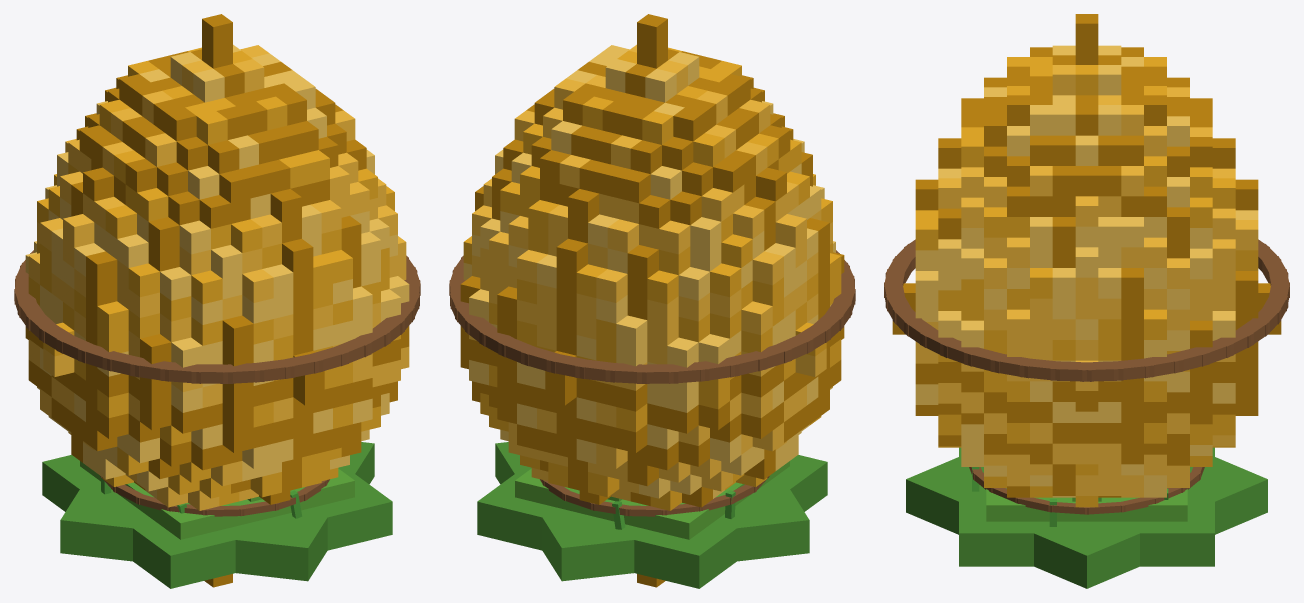
Rendered from egg_pc_miel.glb.
3 renders of one model, left to right at view 1: azimuth 30°, elevation 25°; view 2: azimuth 150°, elevation 25°; view 3: azimuth 270°, elevation 25°, orthographic.
Parts seen in each view (by area): view 1: shell_geo, root_geo, egg_geo; view 2: shell_geo, root_geo, egg_geo; view 3: shell_geo, root_geo, egg_geo.
Part boxes in pixels (x1,y1,x2,y2): shell_geo: (25, 14, 409, 587); root_geo: (42, 442, 392, 588); egg_geo: (14, 250, 420, 383); shell_geo: (460, 14, 844, 587); root_geo: (477, 442, 827, 588); egg_geo: (449, 250, 855, 383); shell_geo: (892, 14, 1281, 507); root_geo: (906, 447, 1267, 588); egg_geo: (884, 239, 1289, 381).
Bounding box in the file's own units: 4.44 × 6.75 × 4.44.
